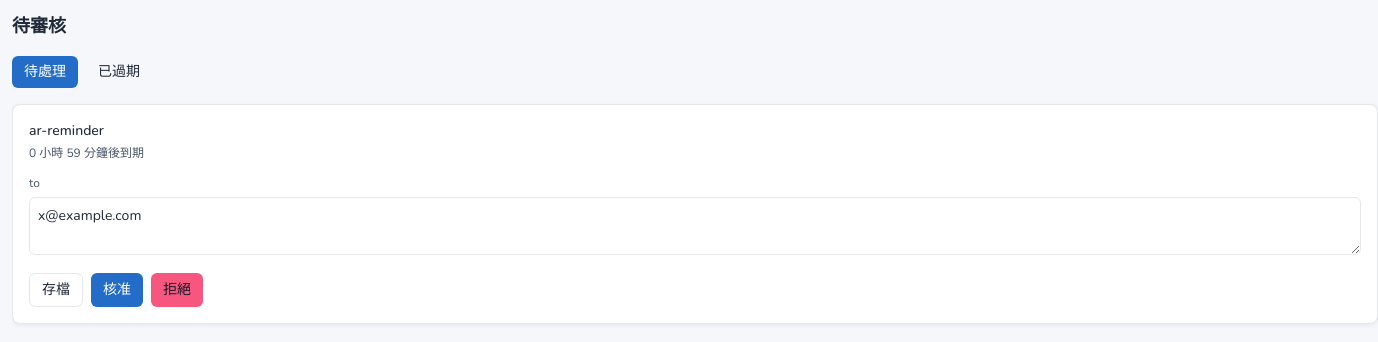
Test: ApprovalsPage › disables both decision buttons while a decision is in flight
The image size is (1378, 342).
Click the button "核准" at (117, 290), box [91, 273, 143, 307]
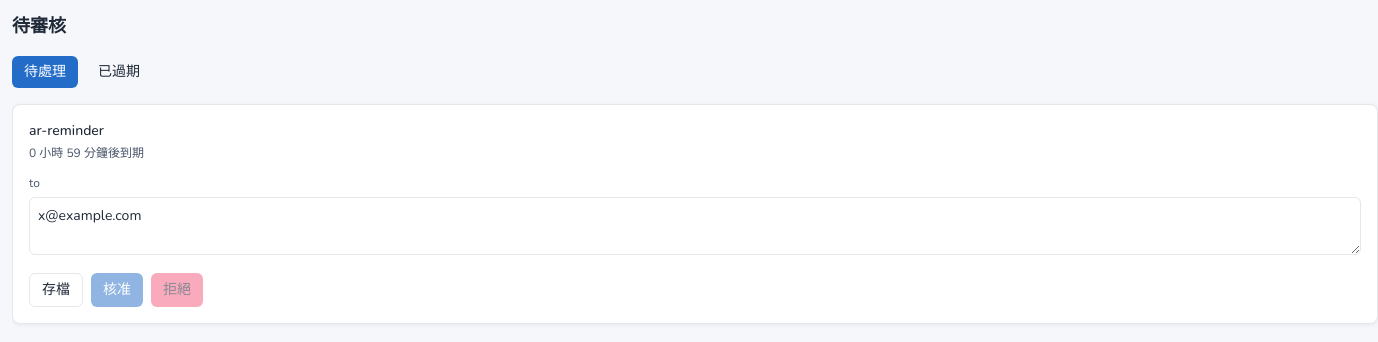
Check: the button "核准" is disabled, box [91, 273, 143, 307]
Check: the button "拒絕" is disabled, box [151, 273, 203, 307]
